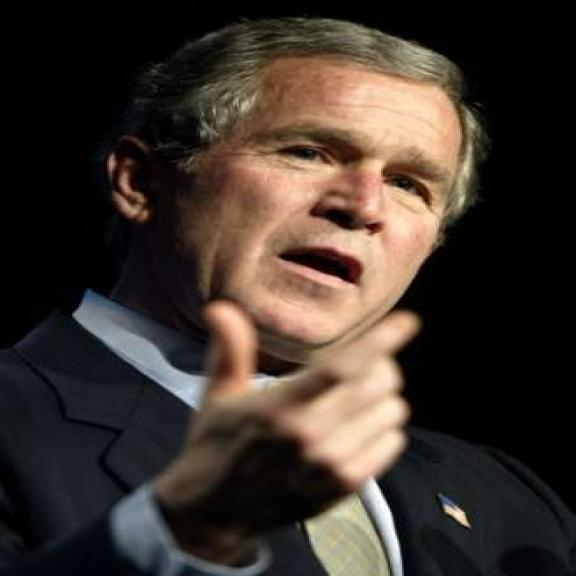face: (96, 50, 455, 358)
